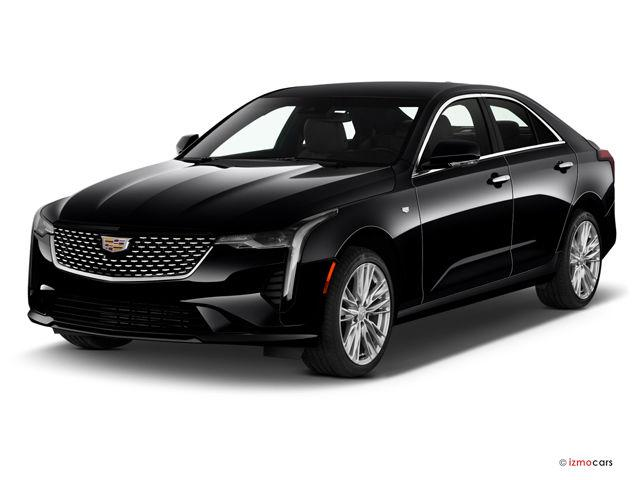cadillac: (27, 82, 617, 376)
